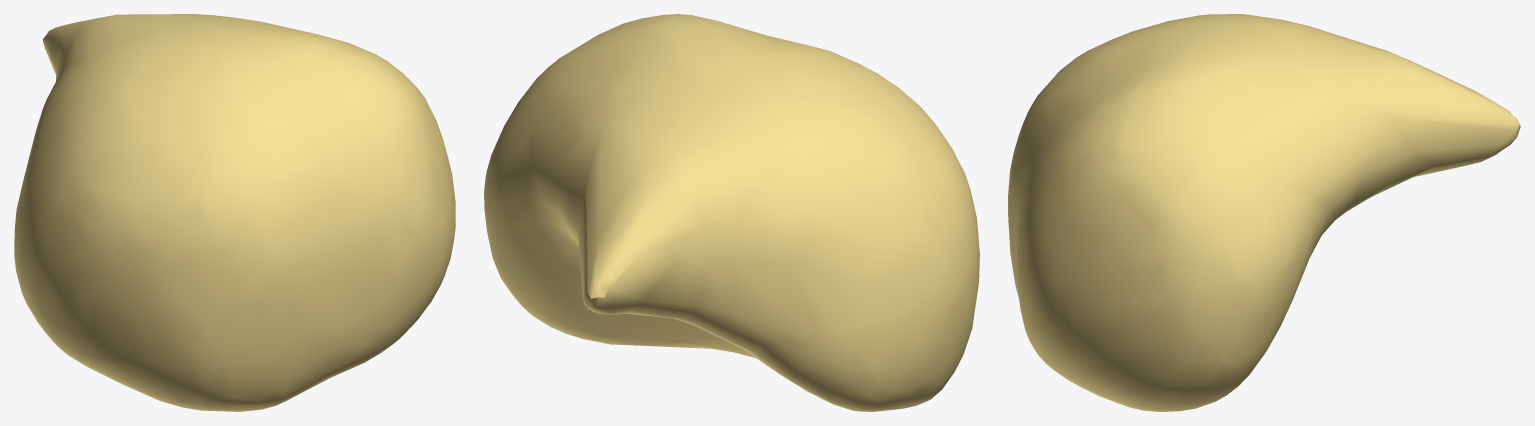
Rendered from fma72832.glb.
3 views of the same model, side by side, from view 1: azimuth 30°, elevation 25°; view 2: azimuth 150°, elevation 25°; view 3: azimuth 270°, elevation 25° (orthographic). The views are drawn at different scales.
Visible parts, largest first — view 1: FMA72832; view 2: FMA72832; view 3: FMA72832.
Boxes of the visible parts, left/top/right/bottom form: FMA72832: left=14, top=14, right=455, bottom=411; FMA72832: left=484, top=14, right=979, bottom=411; FMA72832: left=1008, top=14, right=1520, bottom=411.
Bounding box in the file's own units: 0.0163 × 0.0123 × 0.0175.
